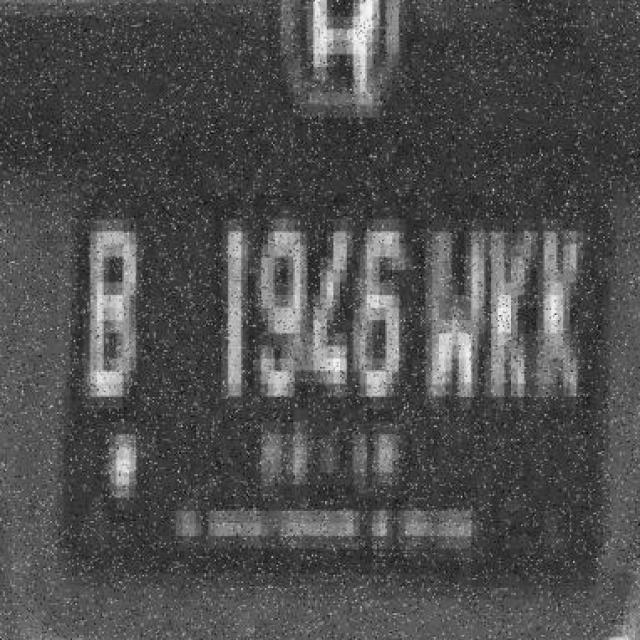licenseplate: (66, 142, 602, 564)
